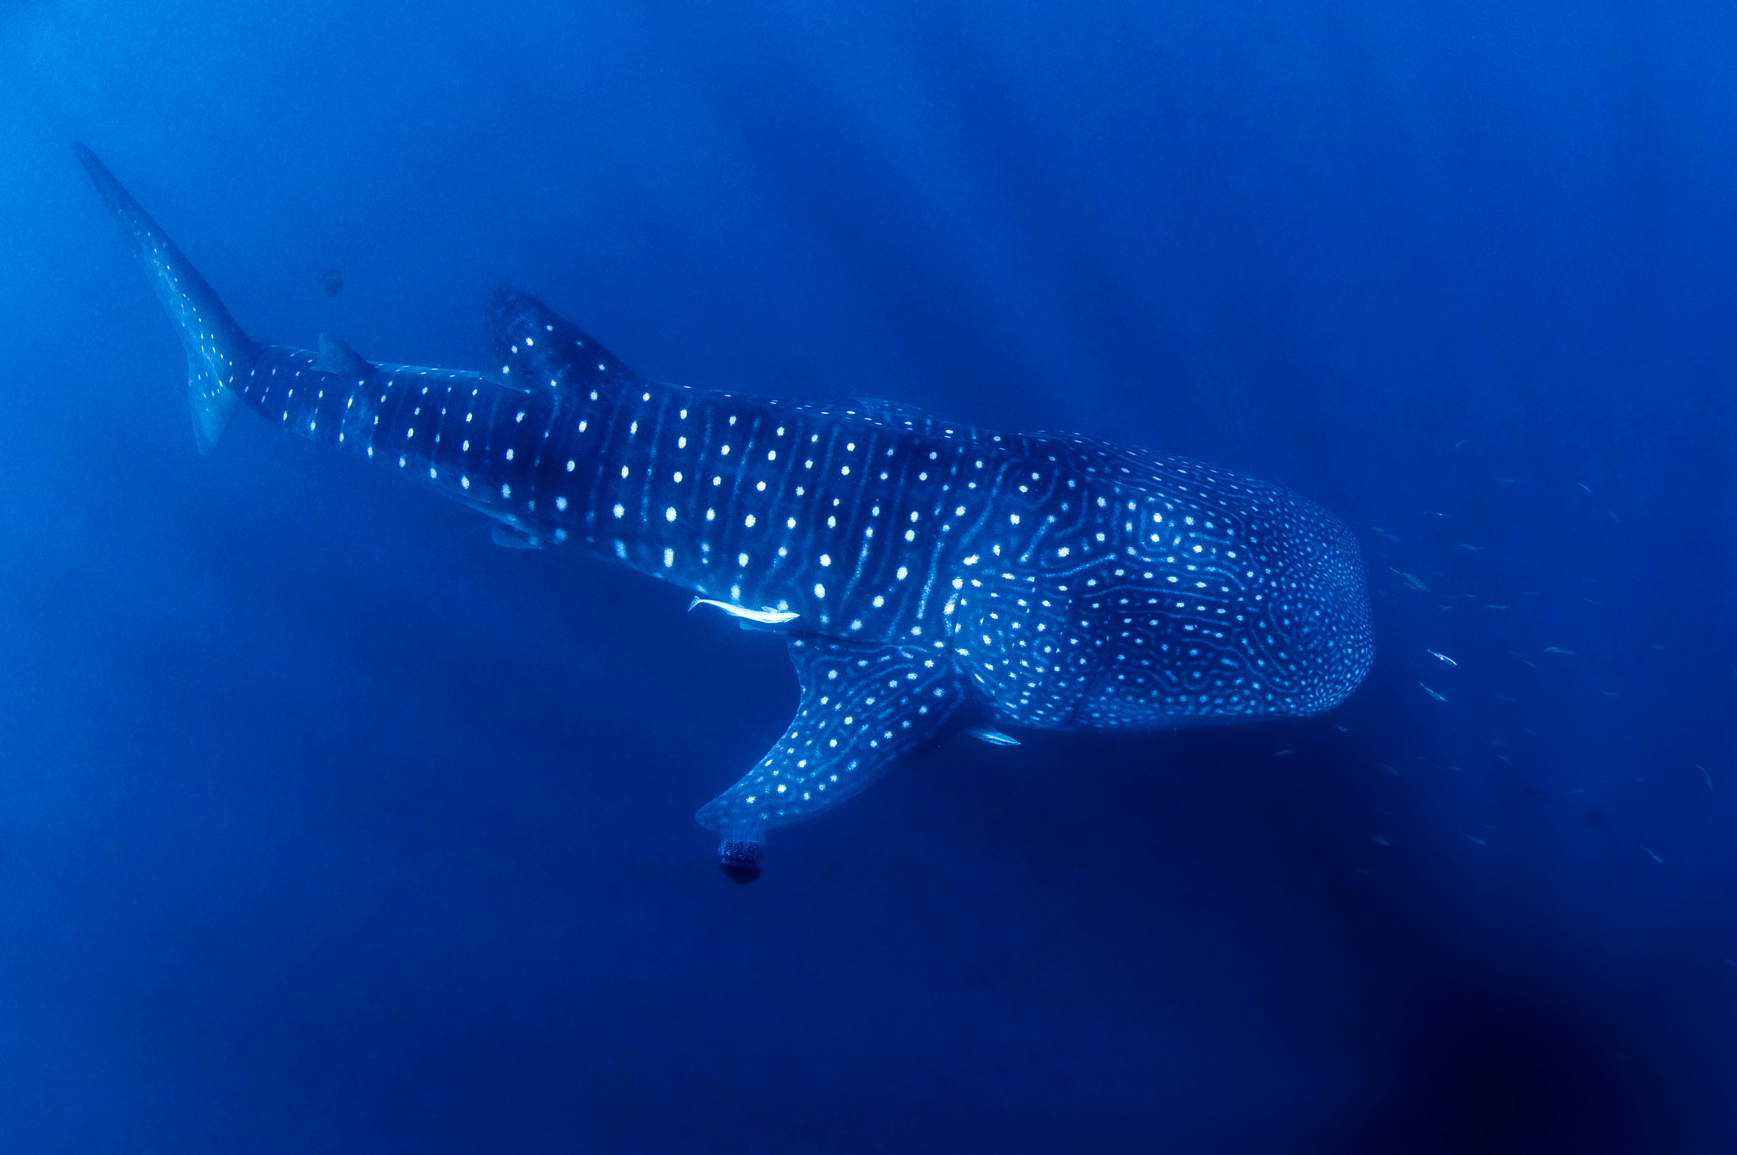Rhincodon_typusw: (24, 101, 1510, 935)
